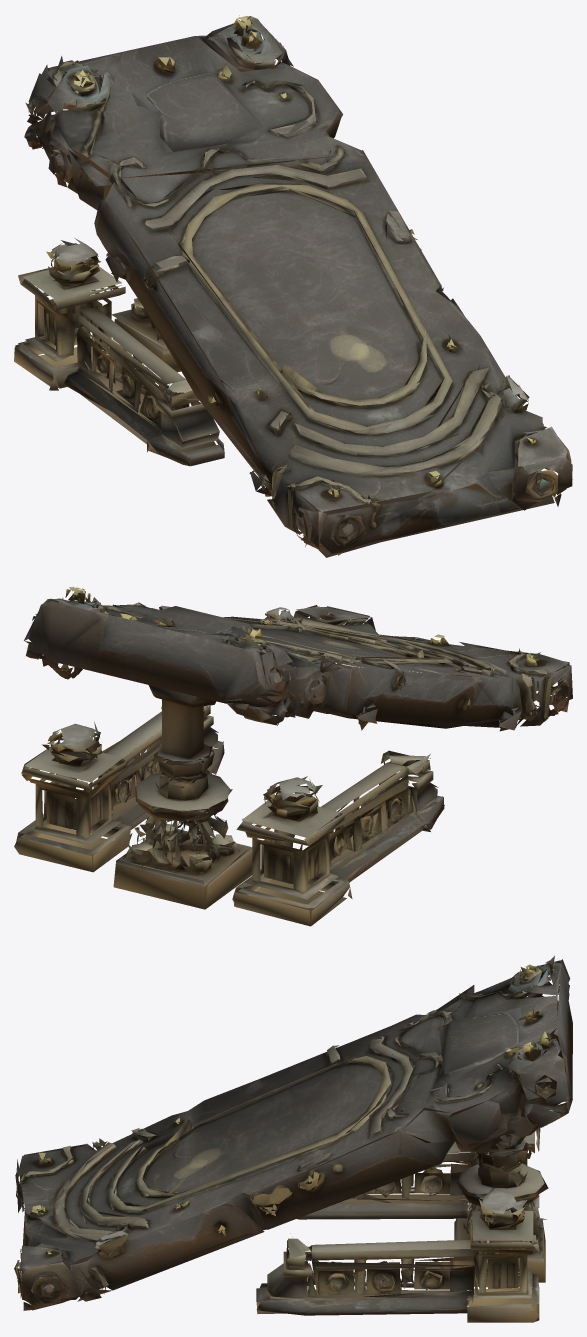
The model's file is ch3_fallen_bridge_deck_chunk_LOD2.glb.
3 views of the same model, one above another, from view 1: azimuth 30°, elevation 25°; view 2: azimuth 150°, elevation 25°; view 3: azimuth 270°, elevation 25° (orthographic). The views are drawn at different scales.
Visible parts, largest first — view 1: tripo_node_387b3207-5552-40fd-9a3f-8211c666c408; view 2: tripo_node_387b3207-5552-40fd-9a3f-8211c666c408; view 3: tripo_node_387b3207-5552-40fd-9a3f-8211c666c408.
Part boxes in pixels (x1,y1,x2,y2): tripo_node_387b3207-5552-40fd-9a3f-8211c666c408: [14, 15, 572, 557]; tripo_node_387b3207-5552-40fd-9a3f-8211c666c408: [14, 587, 572, 926]; tripo_node_387b3207-5552-40fd-9a3f-8211c666c408: [14, 955, 572, 1322].
Bounding box in the file's own units: 0.5688 × 0.5293 × 1.
1 material, 1 textured.
